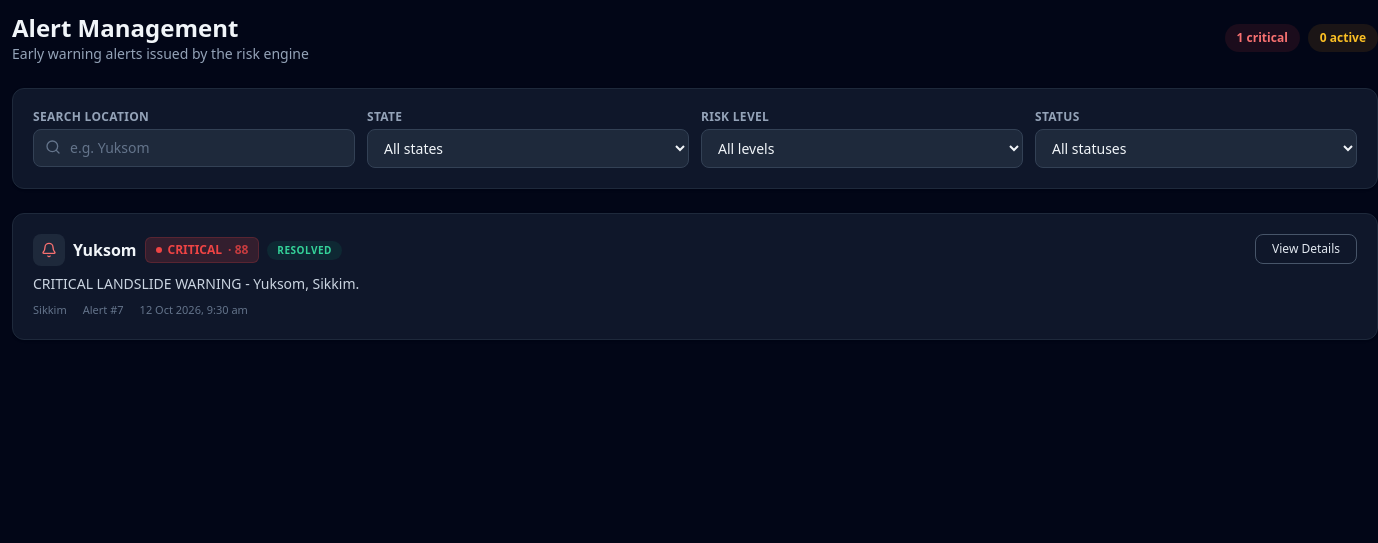
Test: Alerts authority page › lets a resolved alert be expanded and shows its lifecycle with the resolved time
Expected: the text "Yuksom" is shown, [73,238,136,262]
Click the button "View Details": (1306, 249) [1255,234,1357,264]
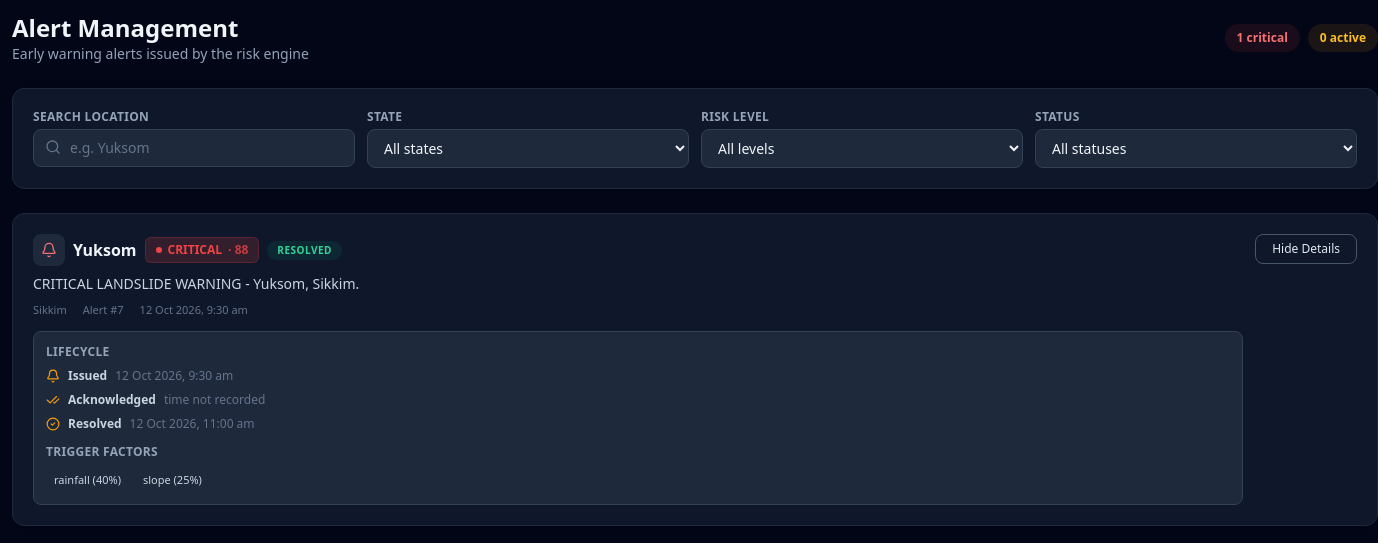
Expected: the list named "Alert lifecycle" is shown, [45,366,265,439]
Expected: the text "Issued" is shown, [68,368,107,384]
Expected: the text "Resolved" is shown, [68,416,122,432]
